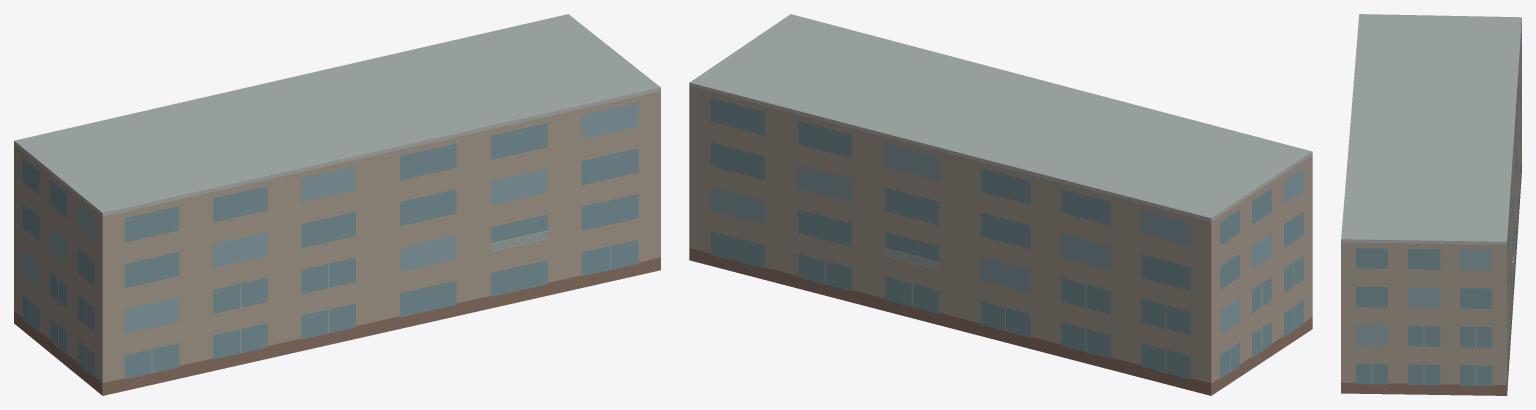
Rendered from survey-upis-32969551.glb.
3 renders of one model, left to right at view 1: azimuth 30°, elevation 25°; view 2: azimuth 150°, elevation 25°; view 3: azimuth 270°, elevation 25°, orthographic. The views are drawn at different scales.
Visible parts, largest first — view 1: survey-upis-32969551.tmp; view 2: survey-upis-32969551.tmp; view 3: survey-upis-32969551.tmp.
Part boxes in pixels (bbox=[...]): survey-upis-32969551.tmp: bbox=[14, 14, 660, 395]; survey-upis-32969551.tmp: bbox=[689, 14, 1312, 395]; survey-upis-32969551.tmp: bbox=[1341, 14, 1521, 395].
Size of the model in its own units: 38.34 by 12.1 by 12.87.
